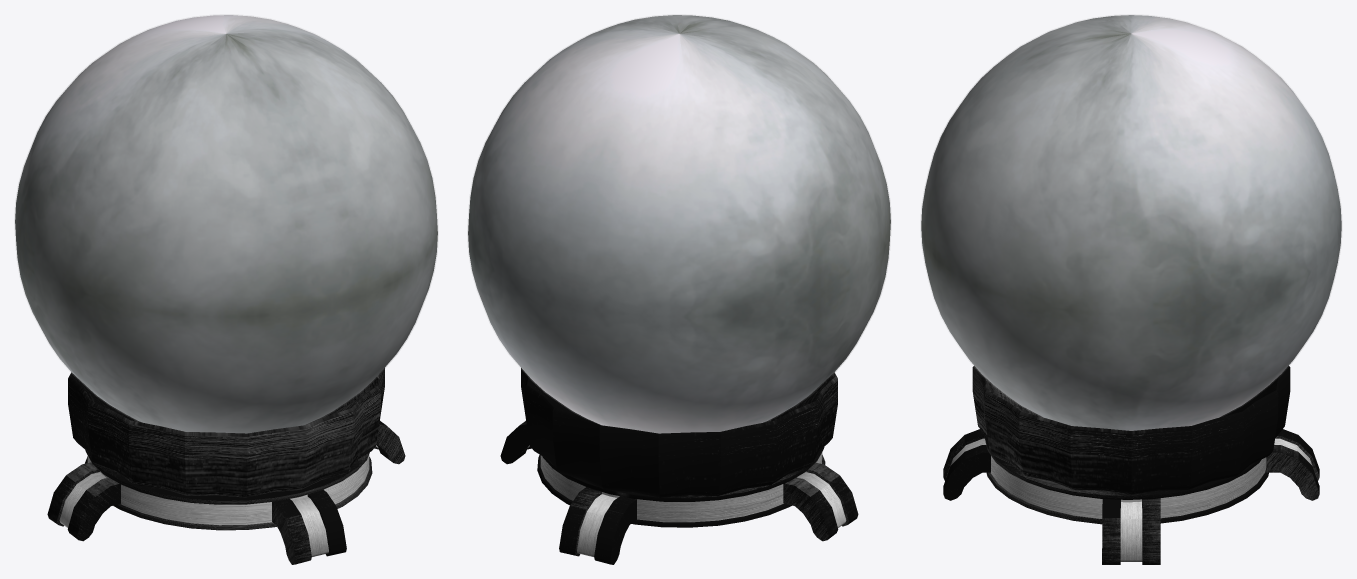
The model's file is Crystal Ball.FBX.
The picture shows the model from 3 angles, left to right: view 1: azimuth 30°, elevation 25°; view 2: azimuth 150°, elevation 25°; view 3: azimuth 270°, elevation 25°; orthographic projection.
Parts seen in each view (by area): view 1: Mist, Stand, Ball; view 2: Mist, Stand, Ball; view 3: Mist, Stand, Ball.
Part boxes in pixels (x1=…): Mist: x1=15, y1=15, x2=437, y2=433; Stand: x1=47, y1=368, x2=405, y2=564; Ball: x1=14, y1=14, x2=438, y2=421; Mist: x1=468, y1=15, x2=890, y2=433; Stand: x1=500, y1=368, x2=858, y2=564; Ball: x1=467, y1=14, x2=891, y2=421; Mist: x1=921, y1=15, x2=1341, y2=430; Stand: x1=943, y1=366, x2=1319, y2=564; Ball: x1=921, y1=14, x2=1341, y2=416.
Bounding box in the file's own units: 136 × 162 × 136.
4 materials, 3 textured.
